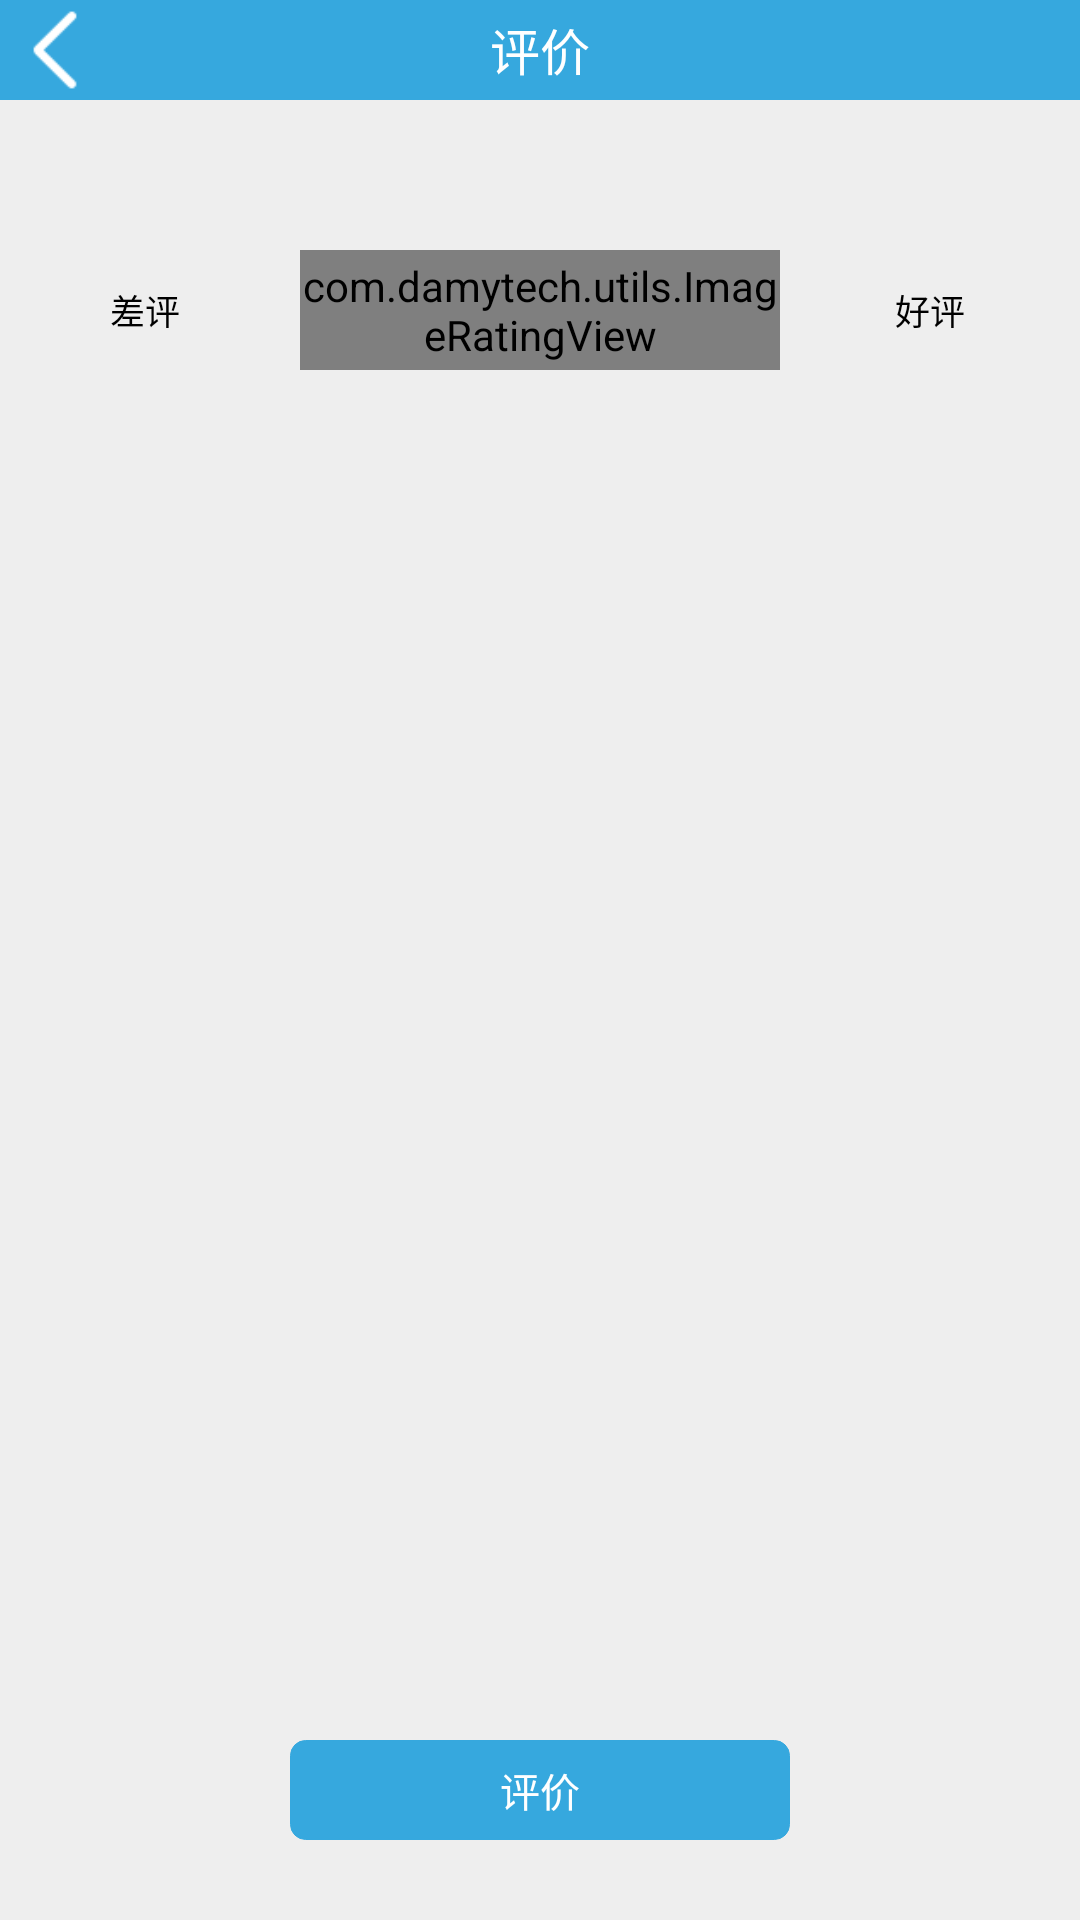

Screen size 1080px x 1920px. Icon name, then its box in pixels as box=[x1, y1, x2, y2]:
leftarrowicon: box=[33, 11, 77, 89]
